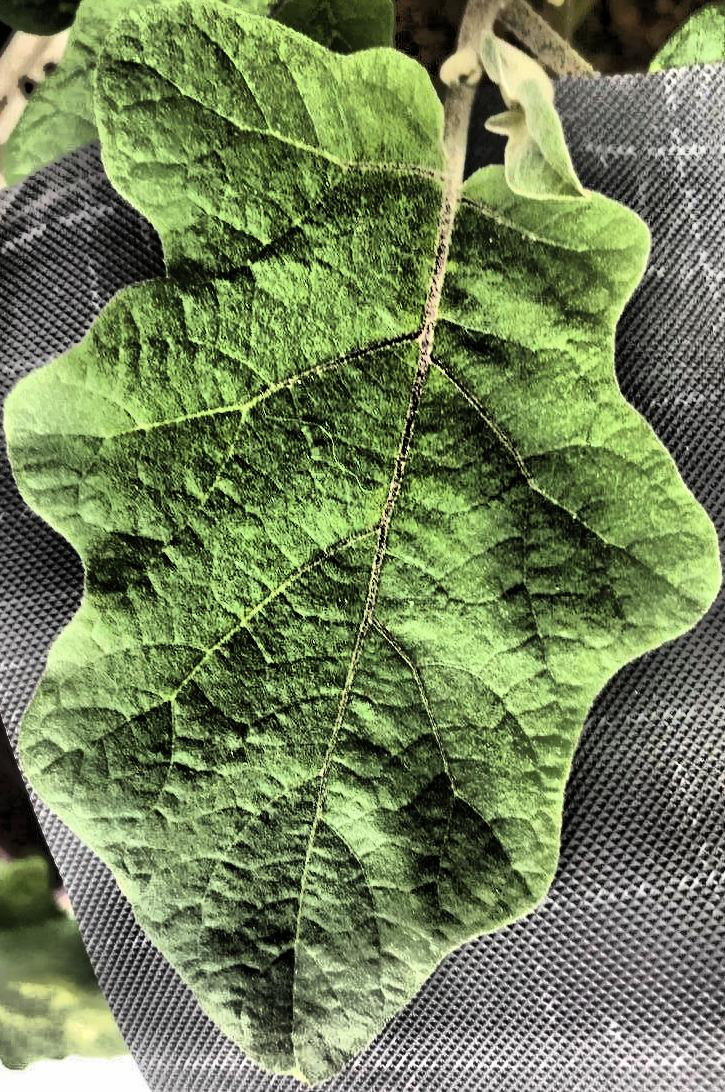HEALTHY: (1, 0, 725, 1092)
